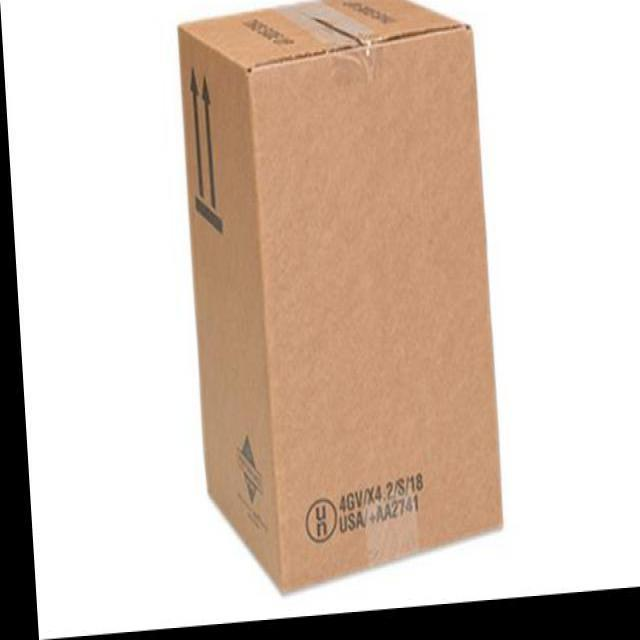box: (169, 0, 513, 598)
